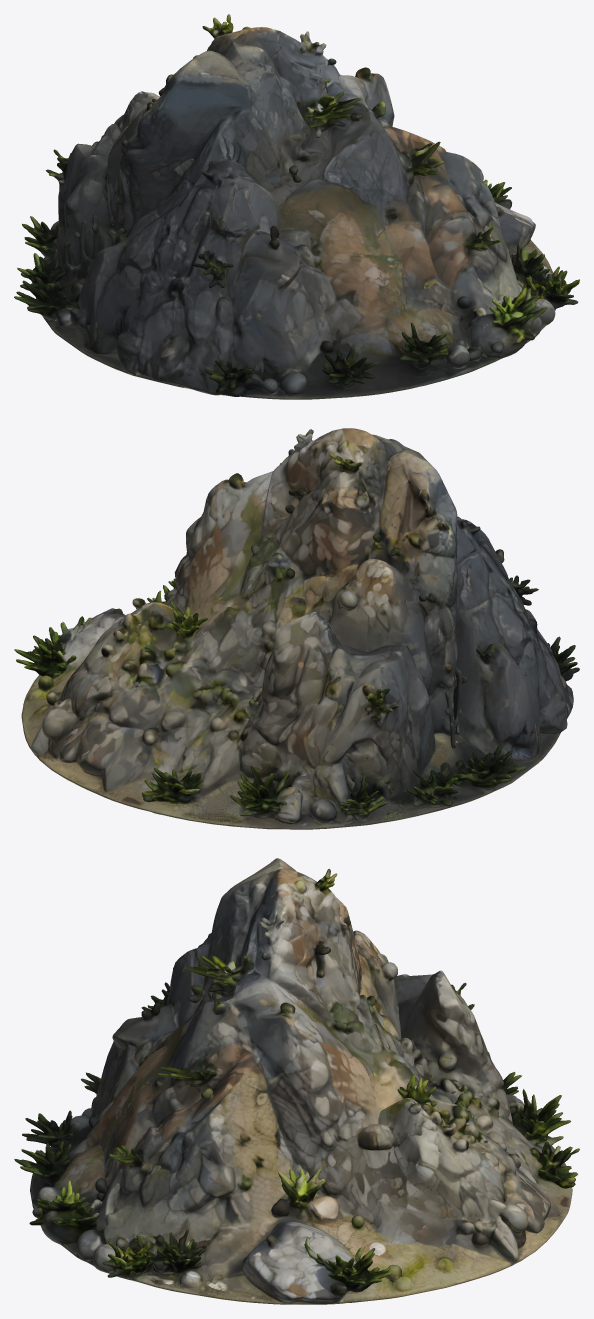
The model's file is nature-mountain.glb.
3 views of the same model, one above another, from view 1: azimuth 30°, elevation 25°; view 2: azimuth 150°, elevation 25°; view 3: azimuth 270°, elevation 25° (orthographic). The views are drawn at different scales.
Parts seen in each view (by area): view 1: tripo_node_9bef610d-a4e8-4265-9b6f-ec339b493912; view 2: tripo_node_9bef610d-a4e8-4265-9b6f-ec339b493912; view 3: tripo_node_9bef610d-a4e8-4265-9b6f-ec339b493912.
Part boxes in pixels (left/top/right/bottom): tripo_node_9bef610d-a4e8-4265-9b6f-ec339b493912: left=14, top=14, right=579, bottom=399; tripo_node_9bef610d-a4e8-4265-9b6f-ec339b493912: left=14, top=428, right=579, bottom=829; tripo_node_9bef610d-a4e8-4265-9b6f-ec339b493912: left=14, top=858, right=579, bottom=1304.
Size of the model in its own units: 52.88 by 30 by 51.45.
Materials: 1 (1 with a texture image).
